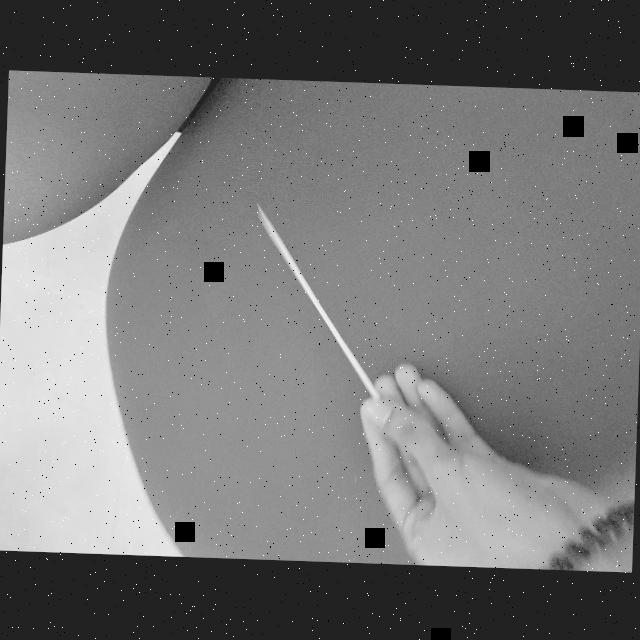stick: (232, 201, 385, 398)
